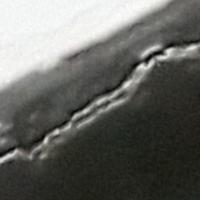crack: (0, 34, 199, 171)
